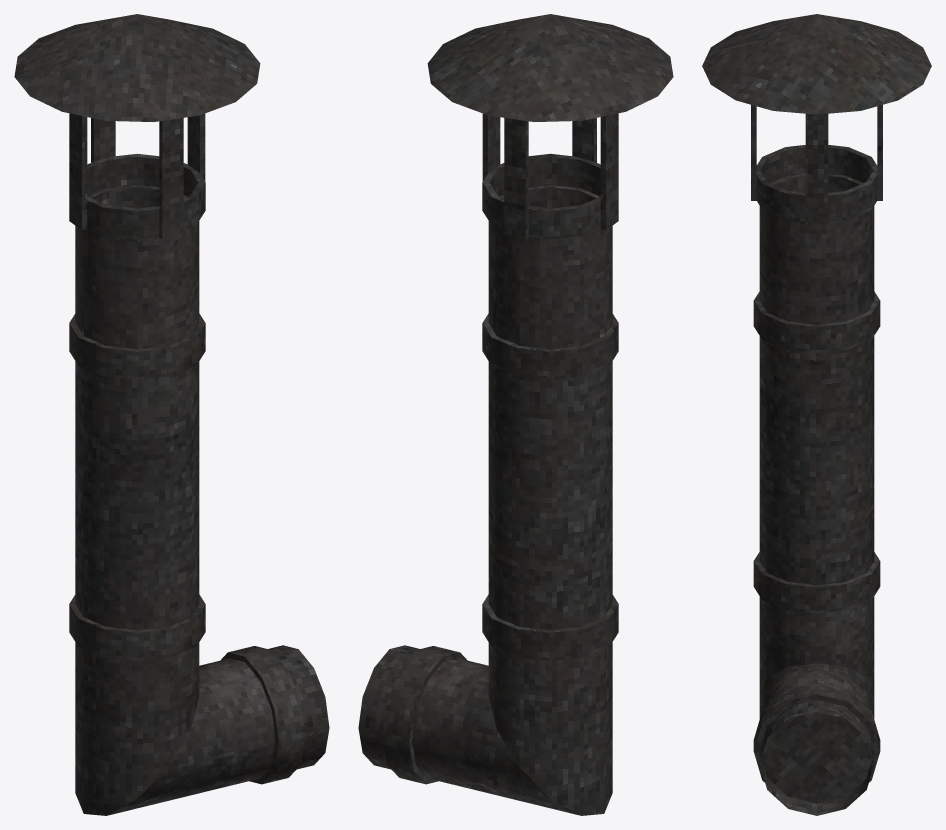
File: chimney_a_3.glb
The picture shows the model from 3 angles, left to right: view 1: azimuth 30°, elevation 25°; view 2: azimuth 150°, elevation 25°; view 3: azimuth 270°, elevation 25°; orthographic projection. The views are drawn at different scales.
Visible parts, largest first — view 1: chimney_a_3; view 2: chimney_a_3; view 3: chimney_a_3.
Part boxes in pixels (bbox=[...]): chimney_a_3: bbox=[14, 14, 329, 815]; chimney_a_3: bbox=[358, 14, 673, 815]; chimney_a_3: bbox=[702, 14, 931, 815].
Bounding box in the file's own units: 0.5 × 1.41 × 0.4.
1 material, 1 textured.
